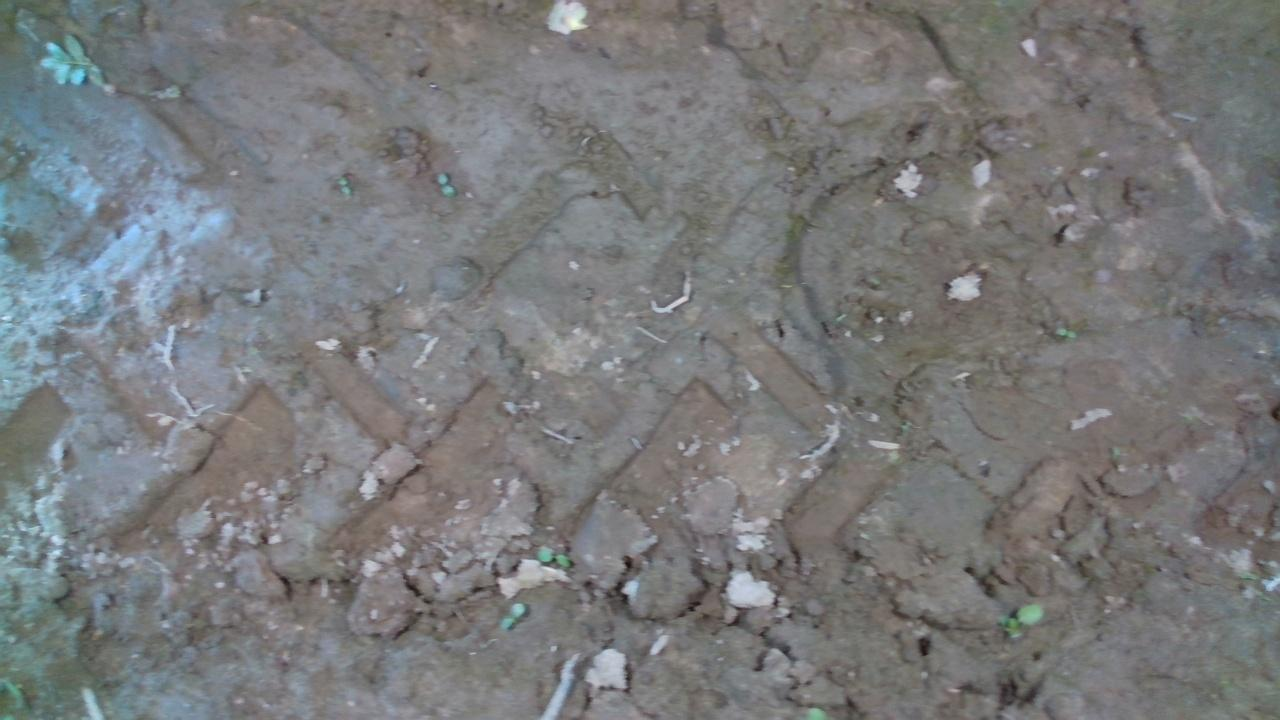weed: (497, 599, 525, 631), (435, 171, 455, 196), (335, 174, 351, 198), (1054, 326, 1077, 339)
